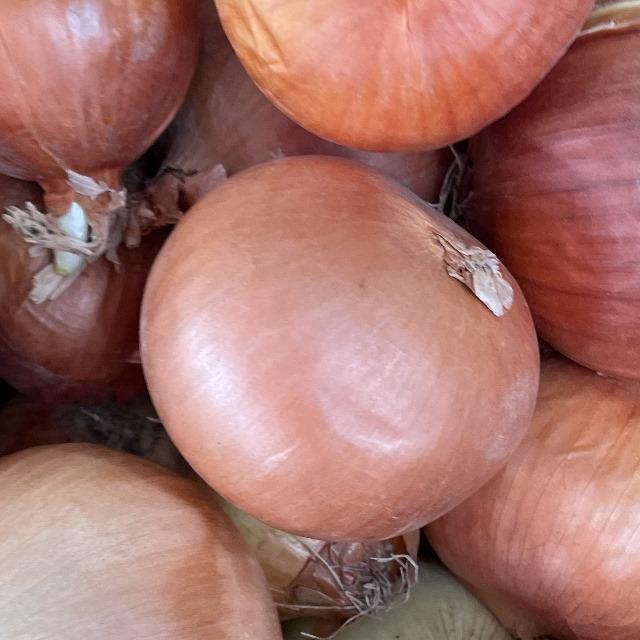onion: (110, 130, 570, 535), (177, 0, 640, 165), (0, 400, 315, 640), (0, 0, 195, 250)
